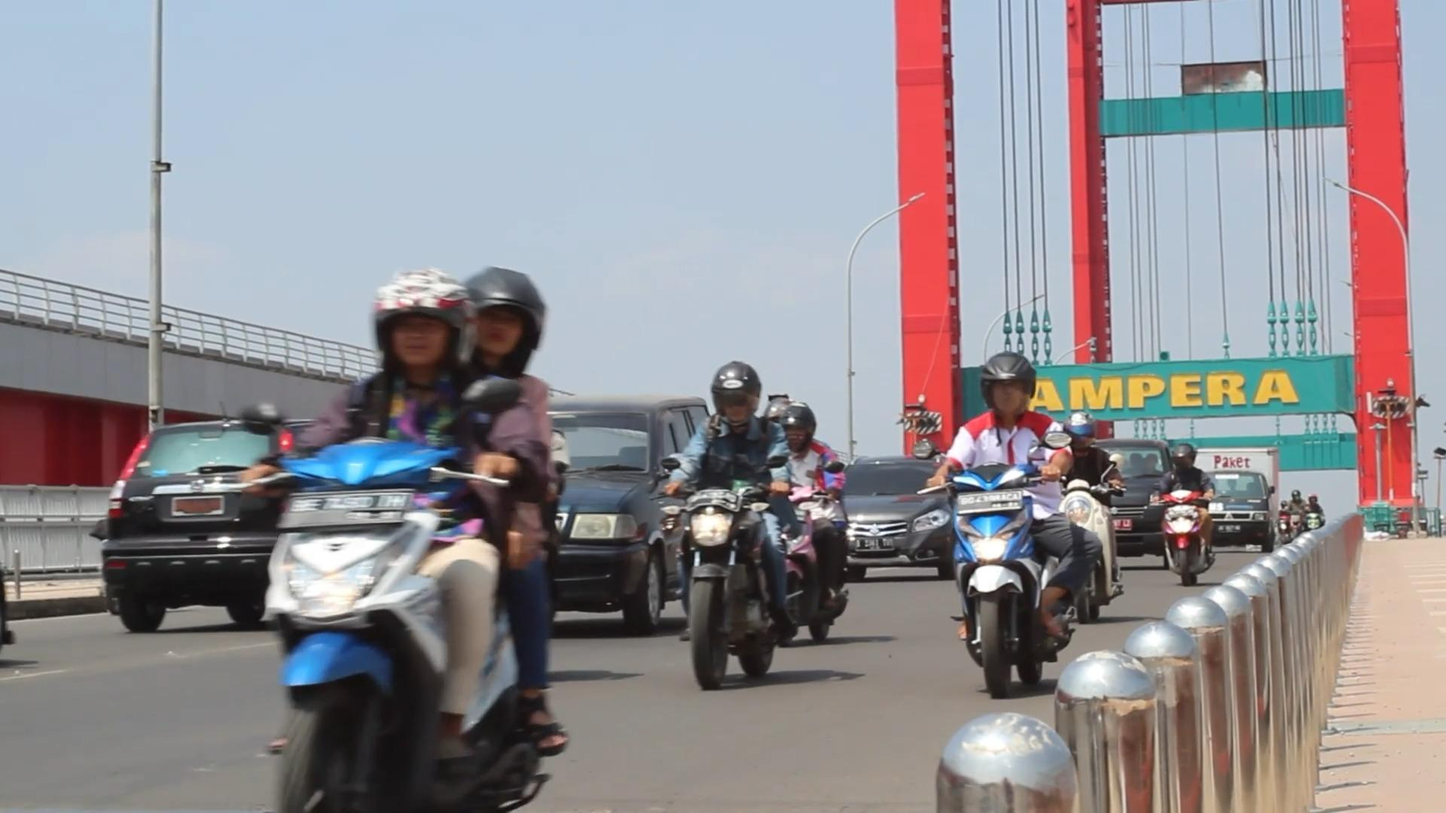Helmet: (360, 256, 484, 381), (441, 252, 553, 384), (972, 345, 1042, 420), (705, 353, 769, 430), (776, 395, 821, 456), (1059, 405, 1100, 449), (1169, 437, 1200, 470)
bike: (235, 366, 557, 813), (911, 431, 1076, 688), (658, 447, 789, 689), (776, 461, 854, 642), (1048, 450, 1124, 619), (1151, 482, 1216, 584)
rider: (247, 259, 543, 767), (444, 259, 574, 755), (932, 344, 1099, 637), (661, 351, 798, 632), (781, 398, 848, 617), (1155, 440, 1216, 550), (1054, 414, 1121, 506)
